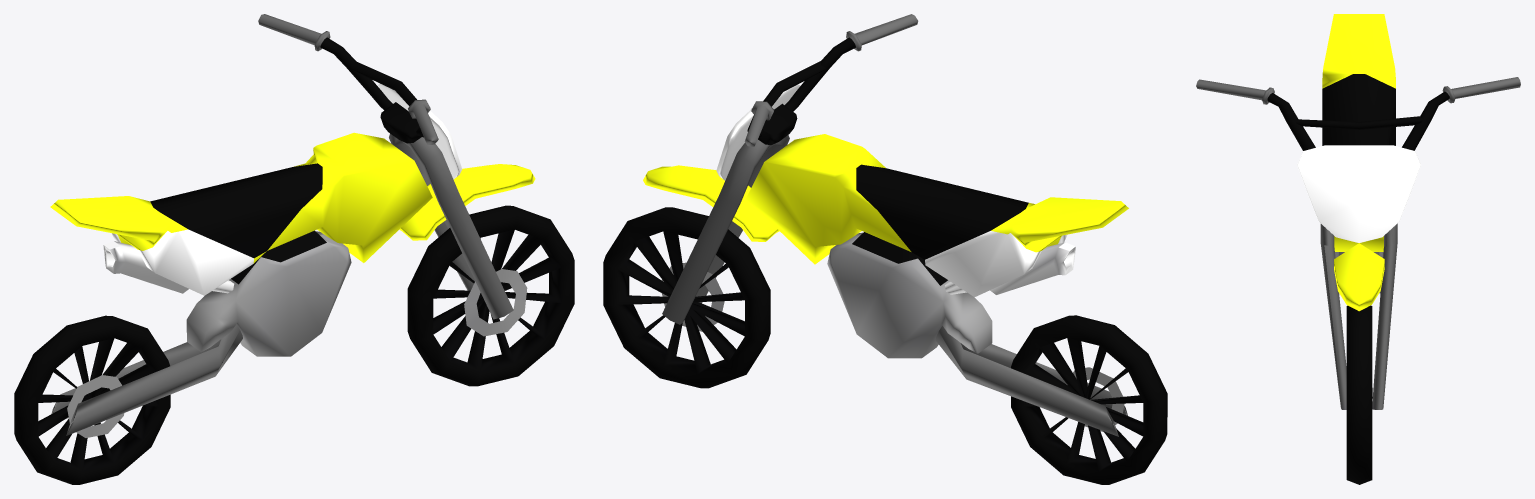
Rendered from DirtBike125ccYellow.glb.
The picture shows the model from 3 angles, left to right: view 1: azimuth 30°, elevation 25°; view 2: azimuth 150°, elevation 25°; view 3: azimuth 270°, elevation 25°; orthographic projection. The views are drawn at different scales.
Visible parts, largest first — view 1: DirtBike125ccYellow; view 2: DirtBike125ccYellow; view 3: DirtBike125ccYellow.
Boxes of the visible parts, left/top/right/bottom form: DirtBike125ccYellow: left=14, top=14, right=574, bottom=484; DirtBike125ccYellow: left=603, top=14, right=1167, bottom=484; DirtBike125ccYellow: left=1196, top=14, right=1520, bottom=484.
Bounding box in the file's own units: 1.92 × 1.13 × 1.01.
Materials: 1 (1 with a texture image).
